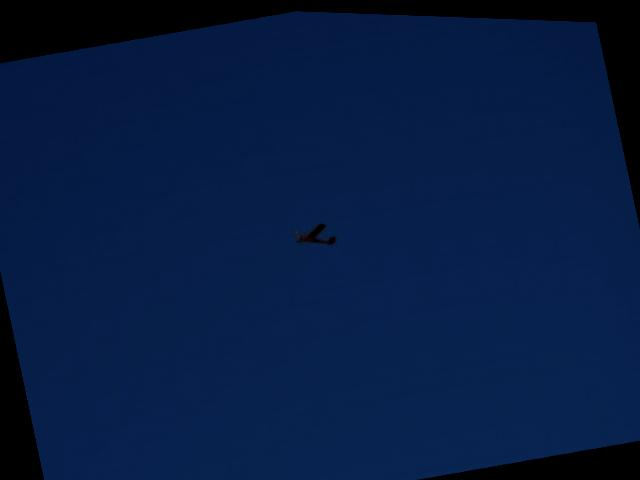iha: (281, 206, 340, 256)
